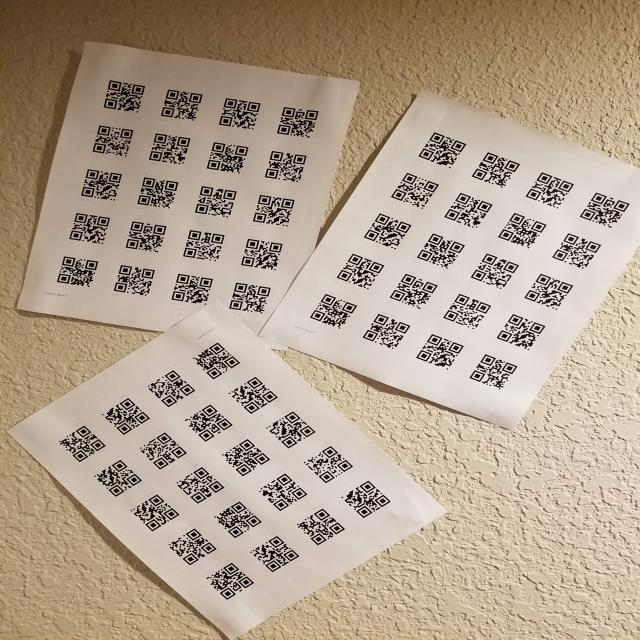QR_CODE: (577, 187, 632, 232), (466, 351, 523, 394), (96, 394, 153, 437), (95, 70, 148, 116), (550, 230, 608, 272), (522, 167, 576, 212), (142, 365, 197, 409), (385, 169, 443, 210), (90, 456, 144, 500), (256, 470, 311, 513), (269, 100, 325, 142), (332, 250, 388, 292), (493, 310, 550, 351), (295, 507, 352, 548), (153, 83, 206, 127), (204, 561, 258, 604), (339, 479, 395, 520), (415, 128, 468, 171), (440, 290, 494, 332), (440, 191, 498, 230), (358, 211, 413, 252), (304, 289, 359, 330), (300, 444, 355, 485), (522, 272, 578, 312), (248, 534, 304, 574), (53, 424, 109, 464), (387, 269, 440, 311), (496, 210, 550, 251), (414, 230, 468, 271), (226, 375, 280, 416), (220, 436, 274, 477), (210, 499, 264, 540), (210, 93, 265, 133), (127, 493, 182, 533), (166, 528, 221, 568), (467, 151, 523, 190), (137, 431, 190, 472), (262, 409, 316, 449), (181, 404, 235, 444), (190, 340, 242, 381), (468, 251, 521, 291), (258, 146, 312, 185), (172, 465, 226, 504), (188, 181, 240, 221), (70, 165, 126, 202), (248, 192, 302, 230), (412, 332, 466, 370), (85, 120, 136, 160), (360, 312, 410, 352), (234, 235, 286, 273), (49, 253, 102, 290), (63, 208, 112, 248), (177, 226, 227, 265), (119, 218, 170, 255), (226, 280, 274, 318), (200, 140, 252, 175), (108, 262, 158, 297), (133, 175, 180, 212), (166, 270, 213, 307), (143, 131, 191, 167)
